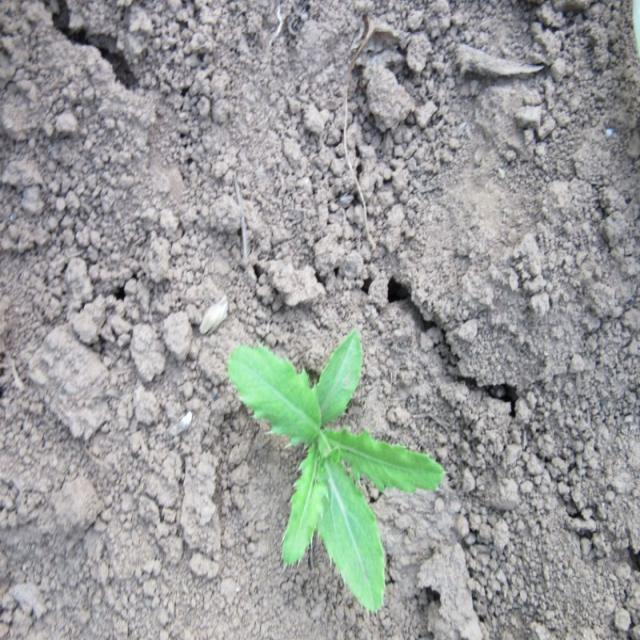cs: (221, 323, 449, 618)
